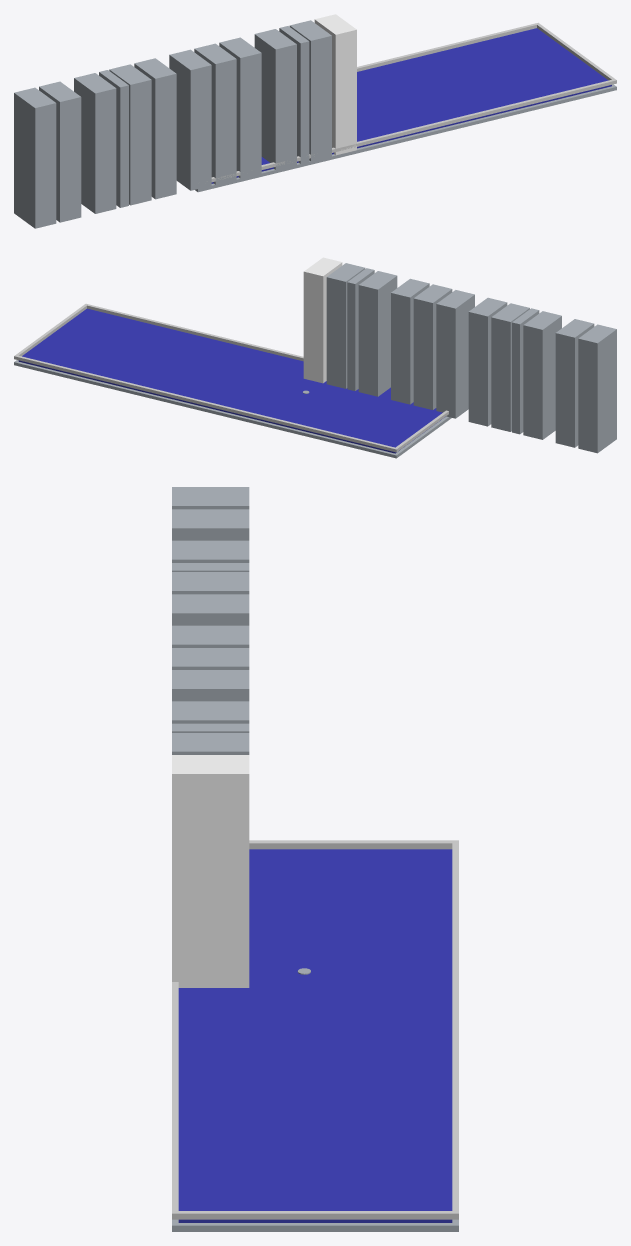
File: Bảng hiệu bạt lót tôn 400 x 130.obj
3 renders of one model, top to bottom at view 1: azimuth 30°, elevation 25°; view 2: azimuth 150°, elevation 25°; view 3: azimuth 270°, elevation 25°, orthographic. The views are drawn at different scales.
Parts seen in each view (by area): view 1: bang_hieu_bat_lot_ton_400_x_130; view 2: bang_hieu_bat_lot_ton_400_x_130; view 3: bang_hieu_bat_lot_ton_400_x_130.
Boxes of the visible parts, bbox=[...] form: bang_hieu_bat_lot_ton_400_x_130: bbox=[14, 14, 616, 228]; bang_hieu_bat_lot_ton_400_x_130: bbox=[14, 257, 616, 458]; bang_hieu_bat_lot_ton_400_x_130: bbox=[172, 487, 458, 1231].
Bounding box in the file's own units: 5.55 × 1.13 × 1.3.
